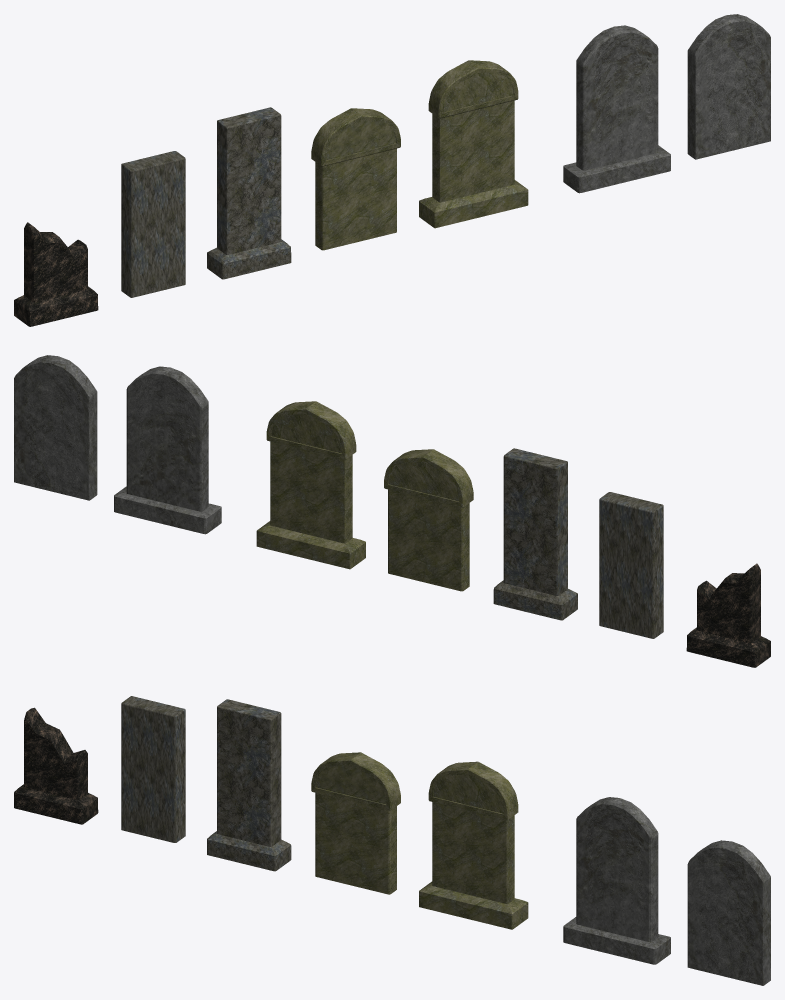
Rendered from tombstones.glb.
The picture shows the model from 3 angles, top to bottom: view 1: azimuth 30°, elevation 25°; view 2: azimuth 150°, elevation 25°; view 3: azimuth 330°, elevation 25°; orthographic projection.
Parts seen in each view (by area): view 1: Tombstone 2, Tombstone 1, Tombstone 5, Tombstone 3, Tombstone 4, Tombstone 6, Tombstone 7; view 2: Tombstone 2, Tombstone 1, Tombstone 5, Tombstone 3, Tombstone 4, Tombstone 6, Tombstone 7; view 3: Tombstone 2, Tombstone 1, Tombstone 5, Tombstone 3, Tombstone 4, Tombstone 6, Tombstone 7.
Part boxes in pixels (bbox=[...]): Tombstone 2: bbox=[419, 60, 528, 228]; Tombstone 1: bbox=[563, 25, 670, 193]; Tombstone 5: bbox=[207, 107, 291, 279]; Tombstone 3: bbox=[687, 14, 770, 159]; Tombstone 4: bbox=[311, 108, 400, 250]; Tombstone 6: bbox=[121, 151, 185, 297]; Tombstone 7: bbox=[14, 222, 98, 326]; Tombstone 2: bbox=[256, 401, 365, 569]; Tombstone 1: bbox=[114, 366, 221, 534]; Tombstone 5: bbox=[493, 448, 577, 620]; Tombstone 3: bbox=[14, 355, 97, 500]; Tombstone 4: bbox=[384, 449, 473, 591]; Tombstone 6: bbox=[599, 492, 663, 638]; Tombstone 7: bbox=[686, 563, 770, 667]; Tombstone 2: bbox=[419, 761, 528, 929]; Tombstone 1: bbox=[563, 797, 670, 964]; Tombstone 5: bbox=[207, 699, 291, 871]; Tombstone 3: bbox=[687, 840, 770, 985]; Tombstone 4: bbox=[311, 752, 400, 894]; Tombstone 6: bbox=[121, 696, 185, 842]; Tombstone 7: bbox=[14, 707, 98, 824].
Size of the model in its own units: 4.44 by 0.8457 by 0.1709.
Materials: 7 (7 with a texture image).
